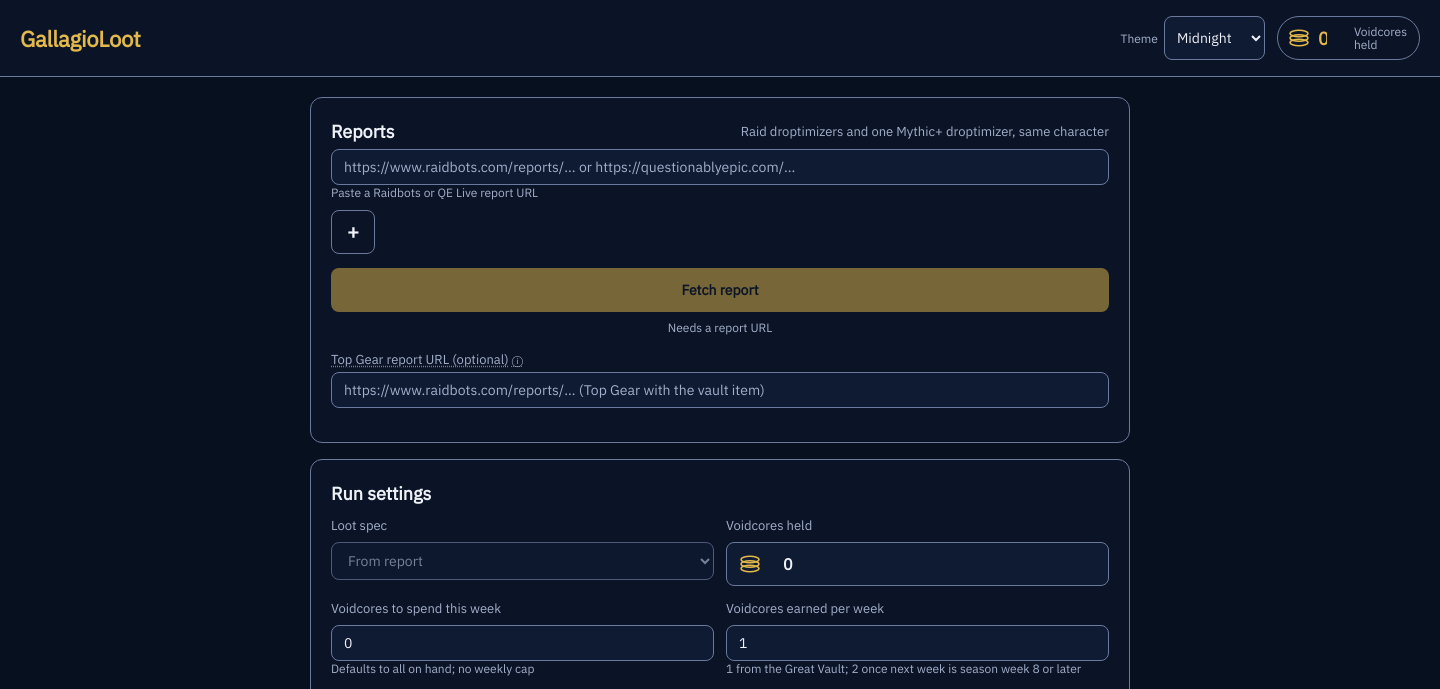
multi-report flow › loads a raid and a Mythic+ report side by side, each with its own parse line and boss-list section
Replace the text in the field with id "report-url" with "https://www.raidbots.com/simbot/report/6PTZ7TjgU8PdxJhZ97bMUa": (720, 167) top-left (331, 149), bottom-right (1109, 185)
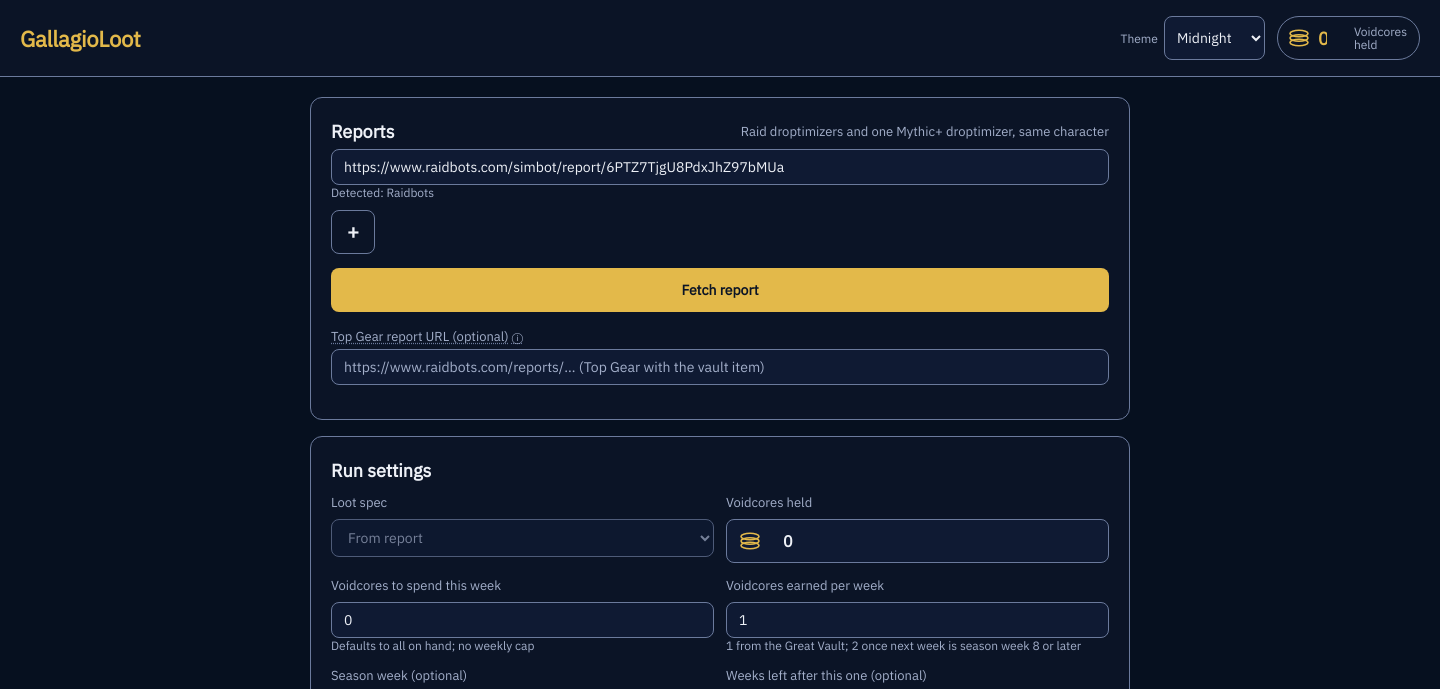
Click the button "Fetch report": (720, 290) top-left (331, 268), bottom-right (1109, 312)
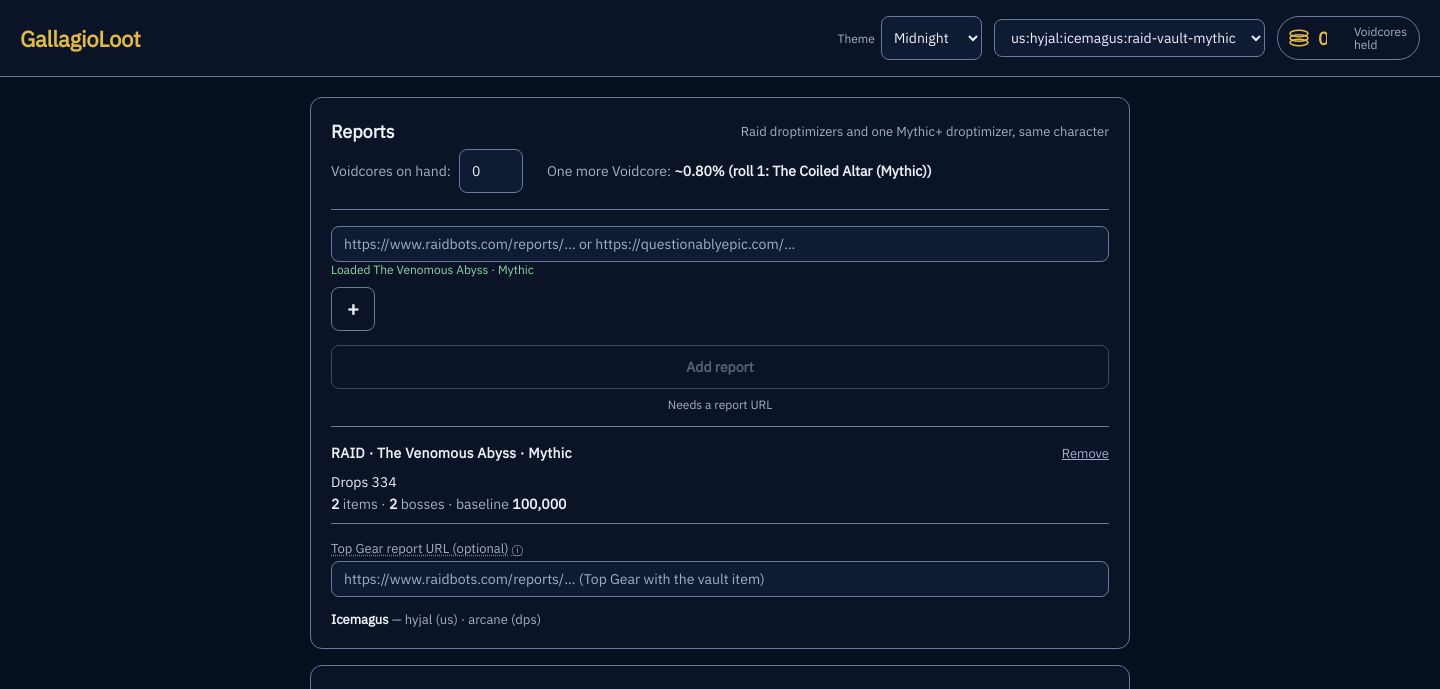
Replace the text in the field with id "report-url" with "https://www.raidbots.com/simbot/report/a8URThoNZqEXDW3tBtavHq": (720, 244) top-left (331, 226), bottom-right (1109, 262)
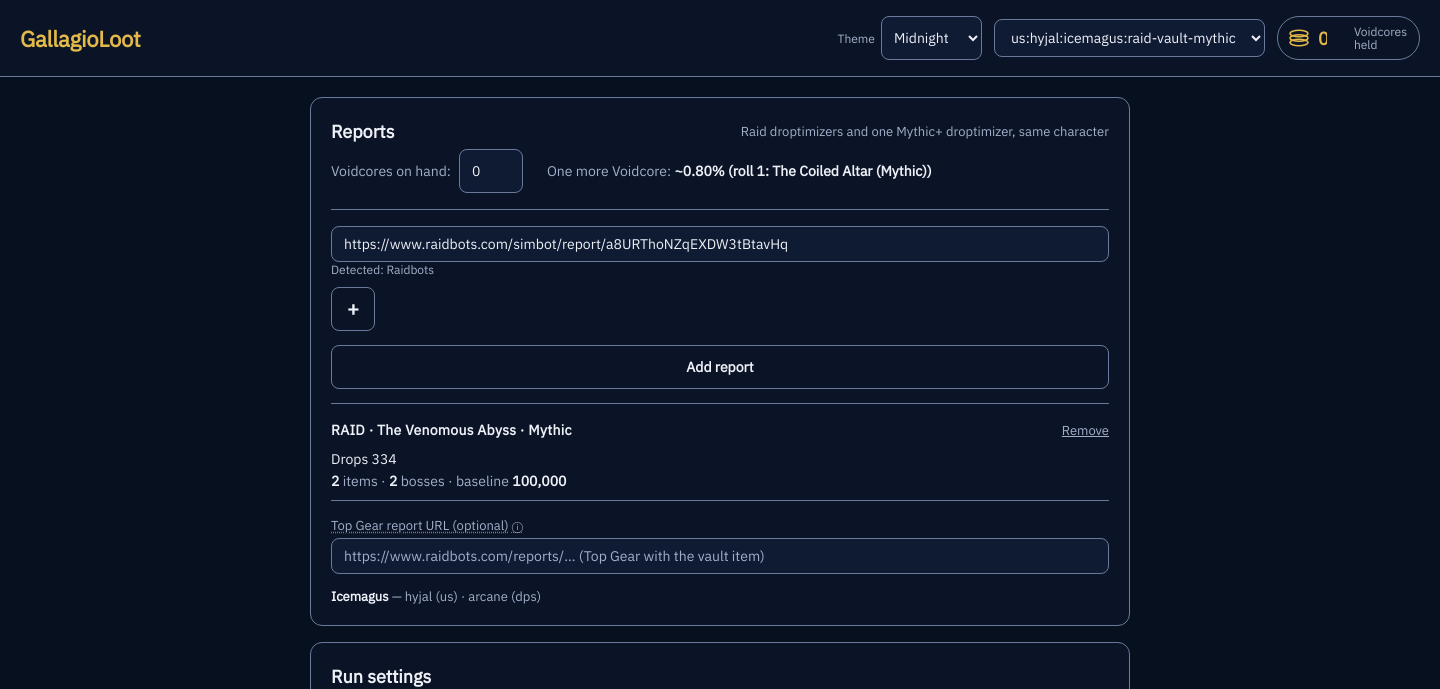
Click the button "Add report": (720, 367) top-left (331, 345), bottom-right (1109, 389)
(page scrolled)
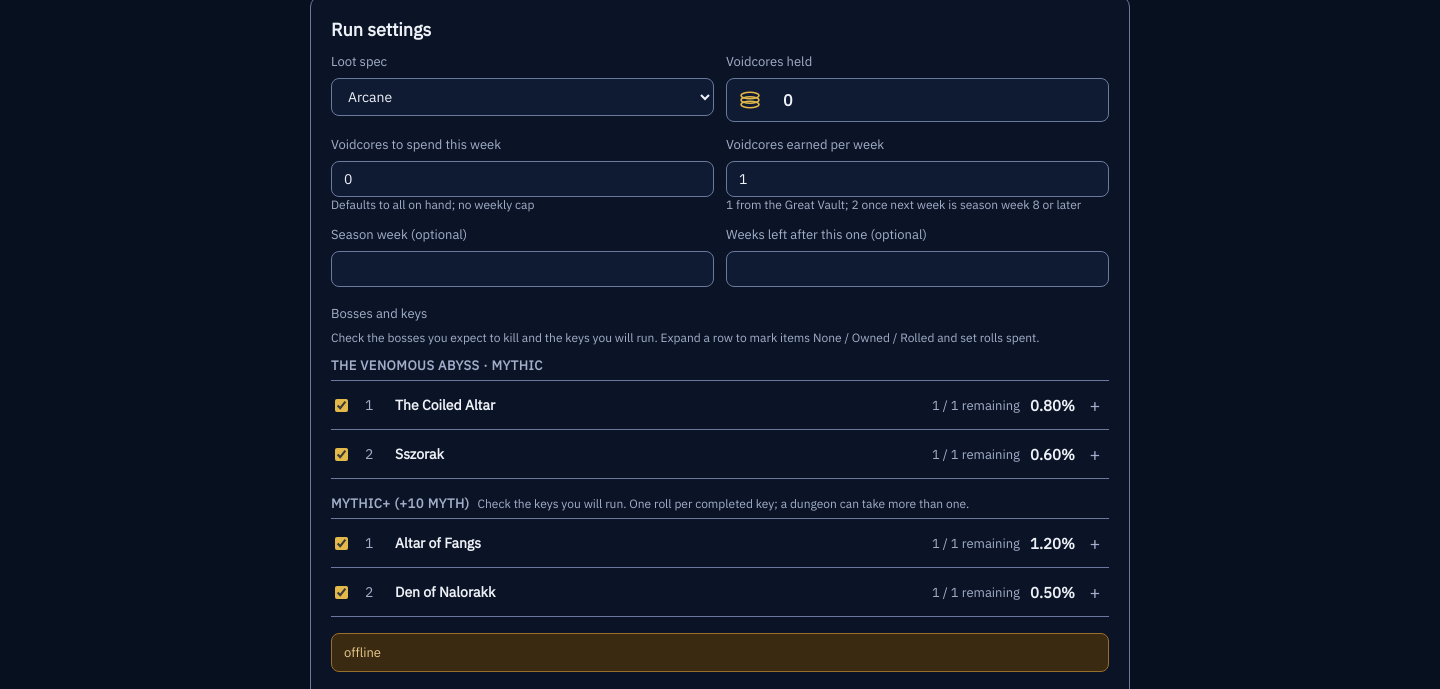
Expected: the checkbox named "Expect to kill The Coiled Altar" is shown, top-left (335, 398), bottom-right (348, 412)
Expected: the checkbox named "I will run Altar of Fangs at +10" is shown, top-left (335, 536), bottom-right (348, 550)
